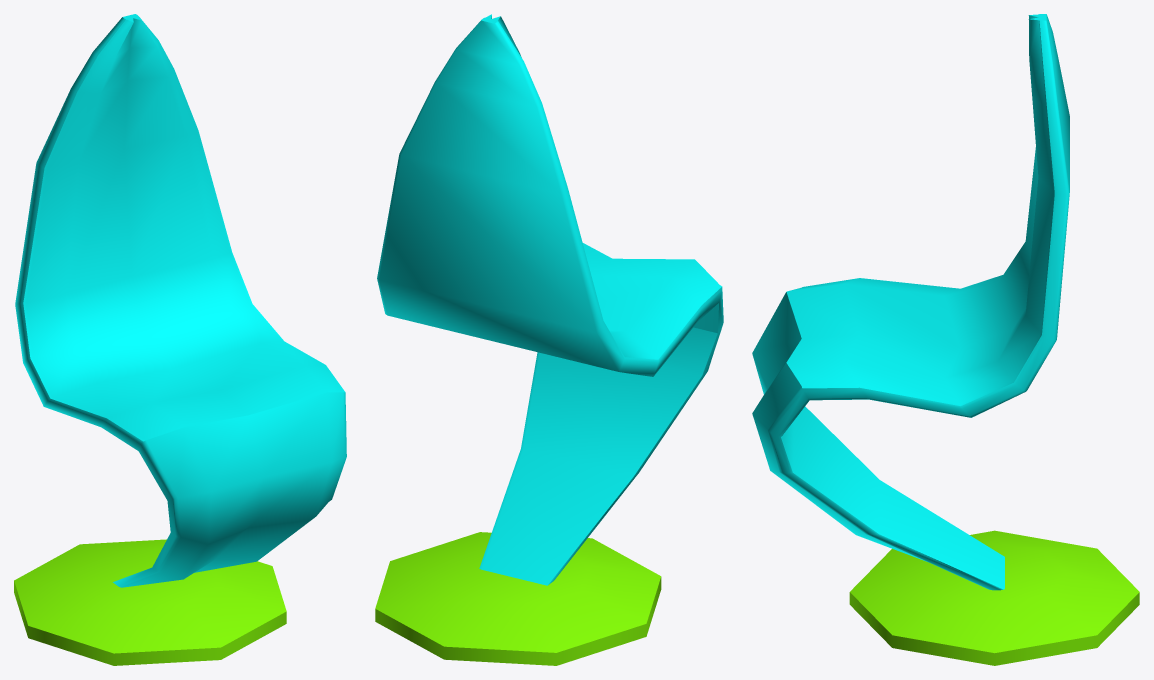
Rendered from design2.FBX.
3 views of the same model, side by side, from view 1: azimuth 30°, elevation 25°; view 2: azimuth 150°, elevation 25°; view 3: azimuth 270°, elevation 25° (orthographic). The views are drawn at different scales.
Parts seen in each view (by area): view 1: design2, design2_socle; view 2: design2, design2_socle; view 3: design2, design2_socle.
Part boxes in pixels (x1,y1,x2,y2): design2: [15, 14, 346, 587]; design2_socle: [14, 539, 286, 665]; design2: [377, 14, 723, 585]; design2_socle: [375, 532, 661, 665]; design2: [752, 14, 1069, 590]; design2_socle: [849, 530, 1139, 665].
Bounding box in the file's own units: 7.07 × 15.85 × 9.44.
